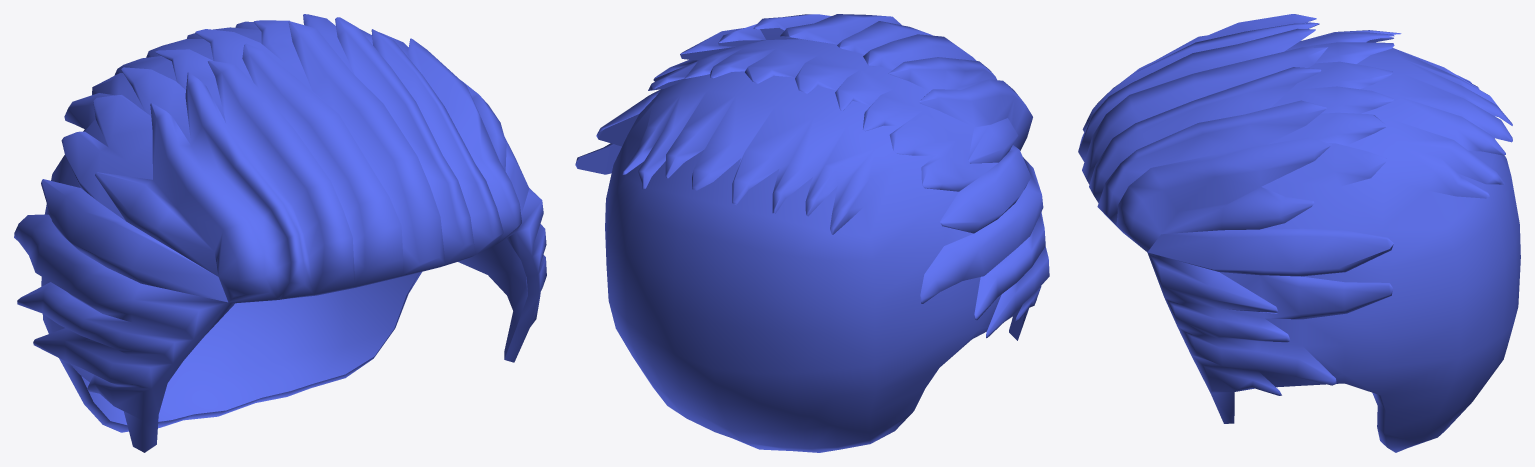
Rendered from Hair_13_03.fbx.
3 views of the same model, side by side, from view 1: azimuth 30°, elevation 25°; view 2: azimuth 150°, elevation 25°; view 3: azimuth 270°, elevation 25° (orthographic). The views are drawn at different scales.
Parts seen in each view (by area): view 1: Hair_13_03; view 2: Hair_13_03; view 3: Hair_13_03.
Part boxes in pixels (x1,y1,x2,y2): Hair_13_03: [14, 14, 546, 452]; Hair_13_03: [575, 14, 1049, 452]; Hair_13_03: [1078, 14, 1520, 452].
Size of the model in its own units: 41.2 by 37.07 by 38.65.
